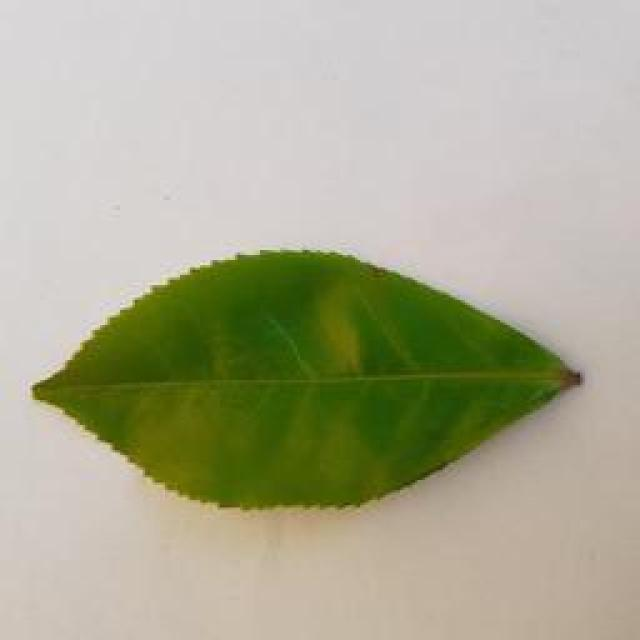Healthy: (33, 232, 591, 512)
